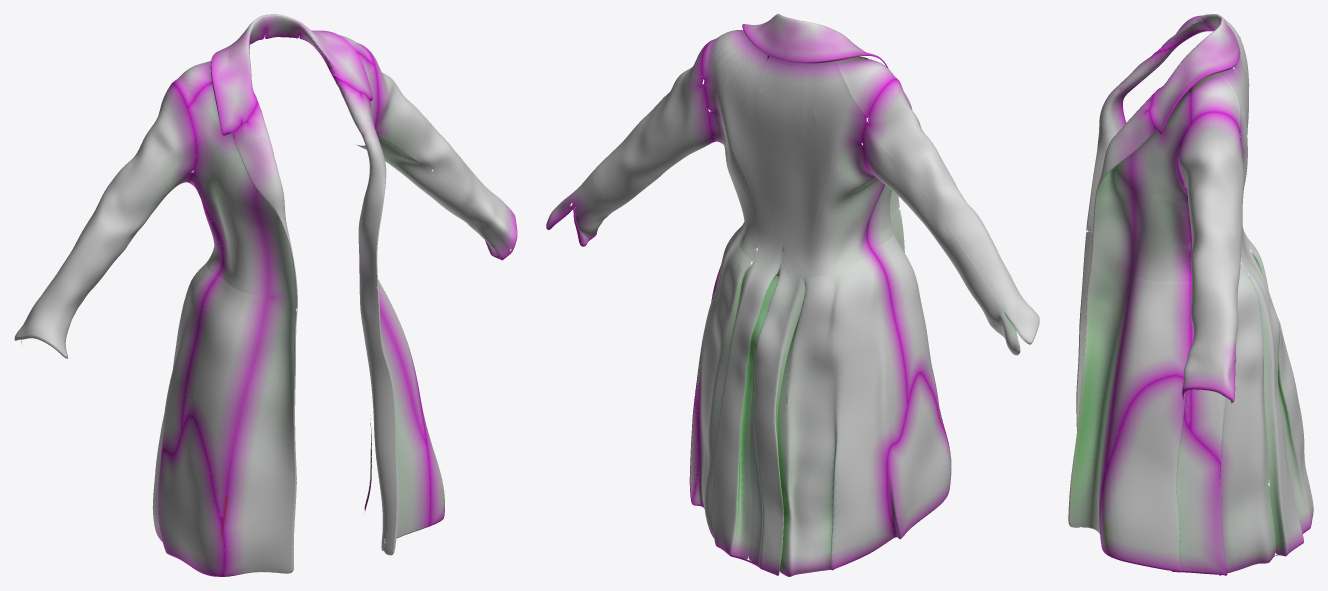
Rendered from overcoat.glb.
3 views of the same model, side by side, from view 1: azimuth 30°, elevation 25°; view 2: azimuth 150°, elevation 25°; view 3: azimuth 270°, elevation 25° (orthographic). The views are drawn at different scales.
Visible parts, largest first — view 1: front, sleeve_r, back, sleeve_l; view 2: back, sleeve_r, sleeve_l, front; view 3: front, sleeve_l, back.
Boxes of the visible parts, x1=… form: front: x1=182, y1=52, x2=430, y2=576; sleeve_r: x1=14, y1=83, x2=224, y2=576; back: x1=152, y1=14, x2=374, y2=541; sleeve_l: x1=356, y1=48, x2=517, y2=526; back: x1=692, y1=14, x2=907, y2=576; sleeve_r: x1=863, y1=79, x2=1039, y2=539; sleeve_l: x1=546, y1=42, x2=714, y2=502; front: x1=712, y1=55, x2=949, y2=447; front: x1=1068, y1=30, x2=1211, y2=538; sleeve_l: x1=1099, y1=112, x2=1243, y2=575; back: x1=1150, y1=14, x2=1313, y2=575.
Bounding box in the file's own units: 1.1 × 1.12 × 0.4816.
